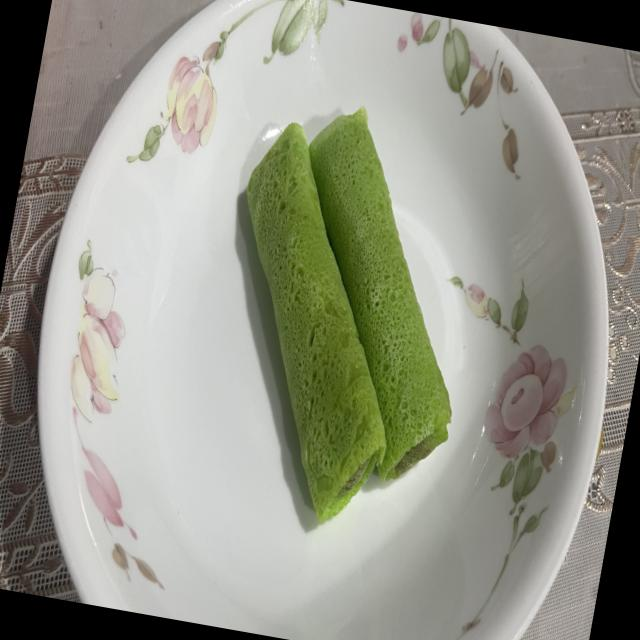Kuih-Ketayap: (246, 123, 386, 521), (308, 106, 451, 480)
